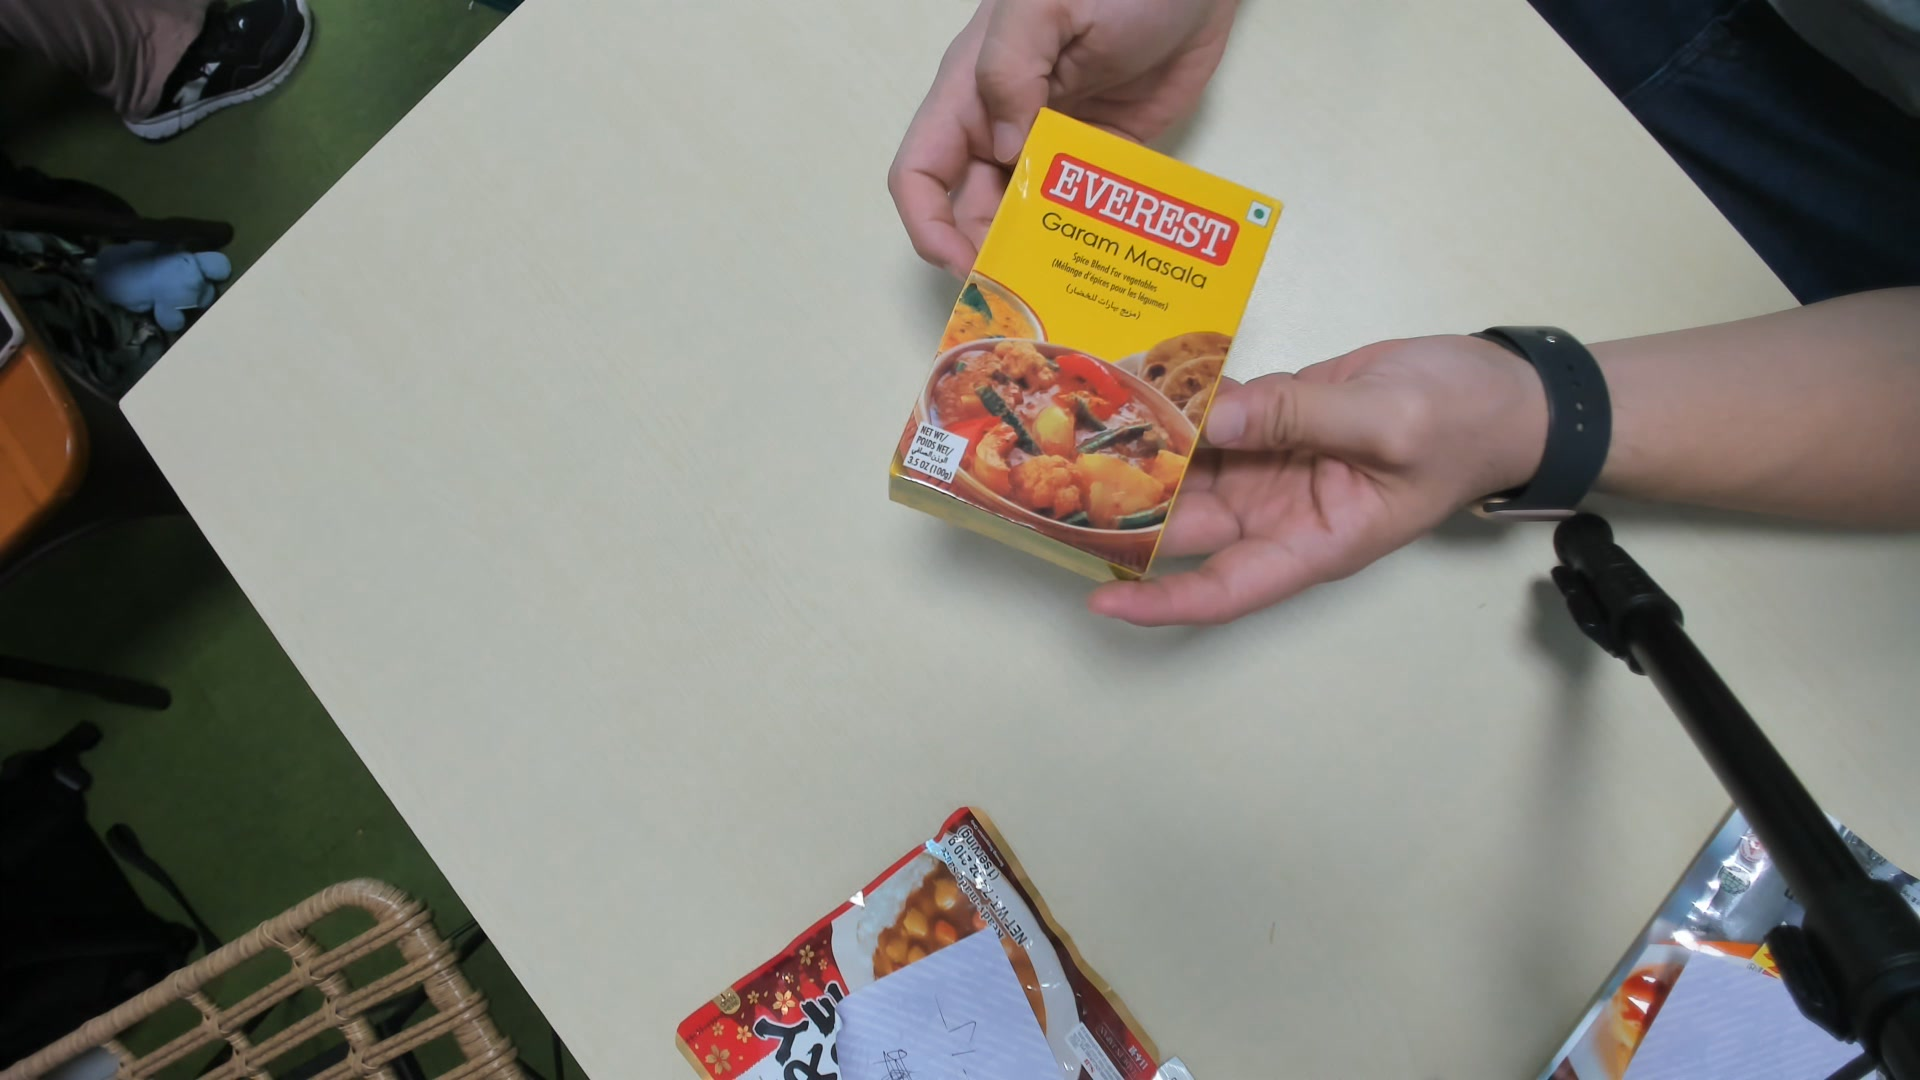CurryPastePowderSauce_100-199g_NonHalal_NonHealthy: (885, 102, 1279, 601)
